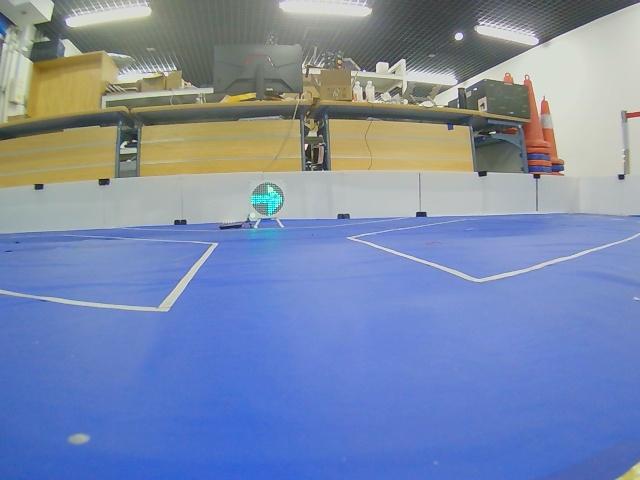right_green: (251, 182, 284, 216)
